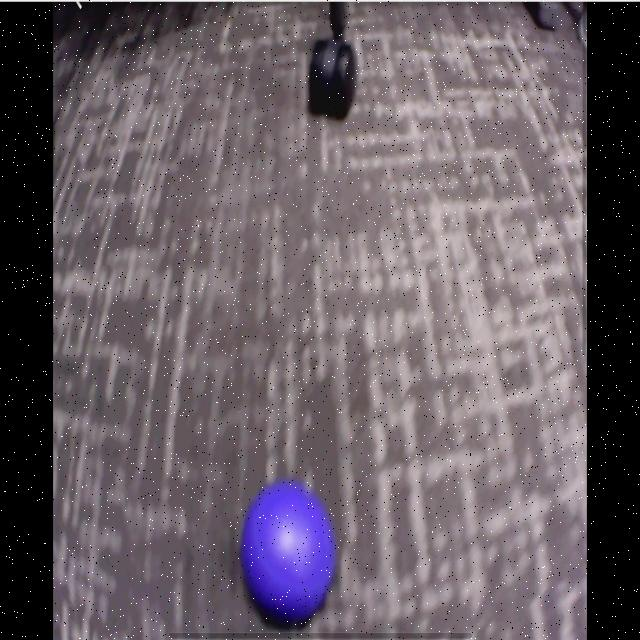ball: (243, 484, 336, 622)
